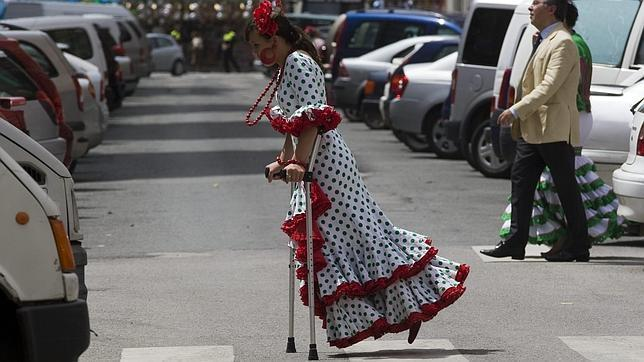crutches: (232, 1, 474, 360)
